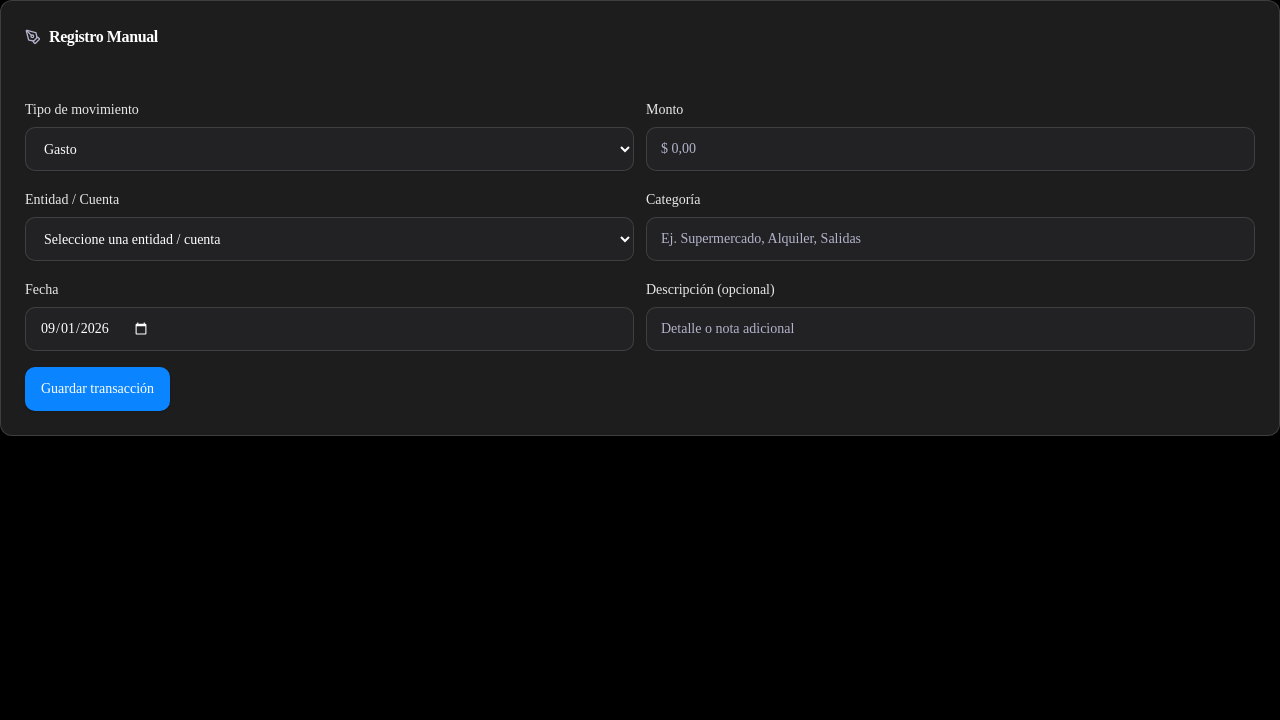
Scenario: ManualTransactionForm › validates missing bank entity or category and prevents fetch submission
In the field labelled "Monto": (950, 149) x1=646 y1=127 x2=1255 y2=171, type "100"
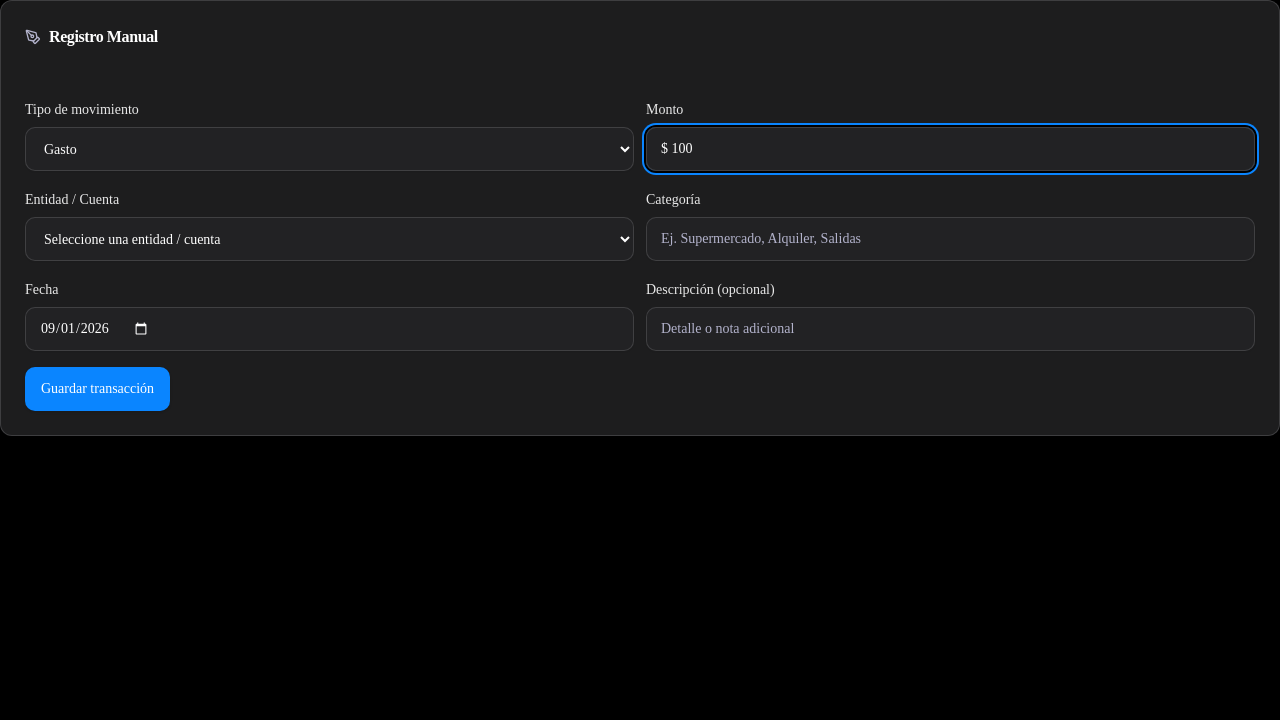
In the field labelled "Categoría": (950, 239) x1=646 y1=217 x2=1255 y2=261, type "Super"
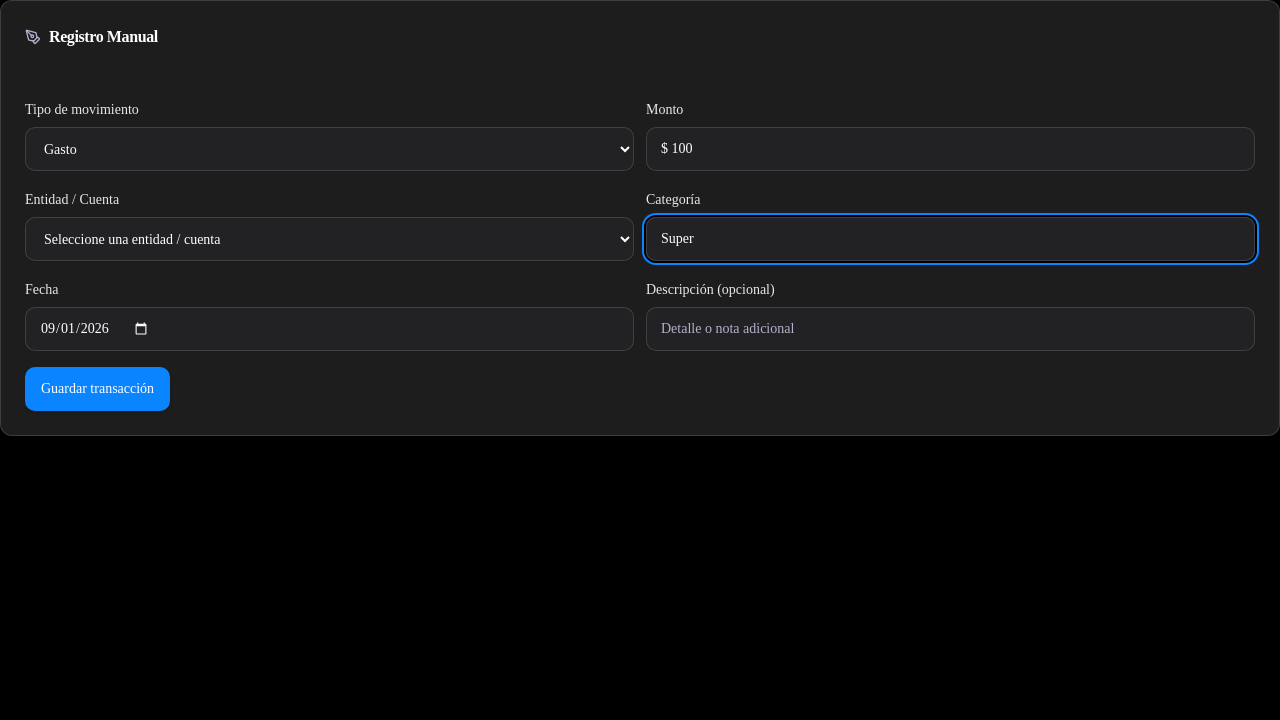
Click the button "Guardar transacción": (98, 389) x1=25 y1=367 x2=170 y2=411
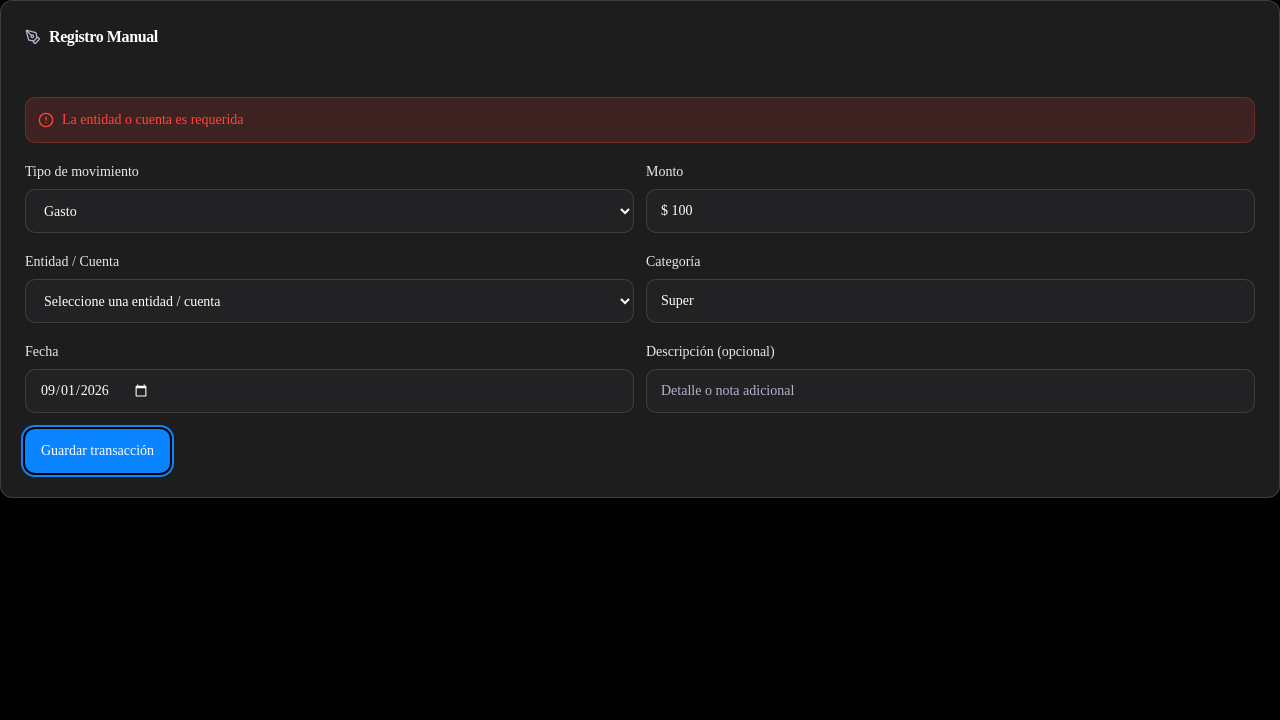
Expected: the message shows "entidad o cuenta es requerida", x1=62 y1=112 x2=244 y2=127
